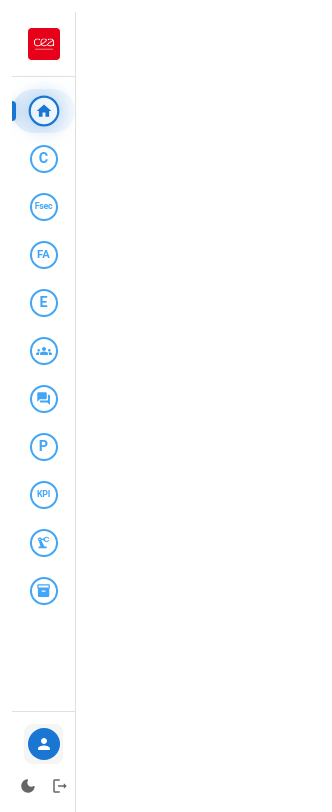
Sidebar — flyout en mode replié › propose « Annuaire des labos » dans le flyout Équipe et Carte et y navigue
Click the button named "Équipe et Carte". click: (44, 351)
box: [30,337,58,365]
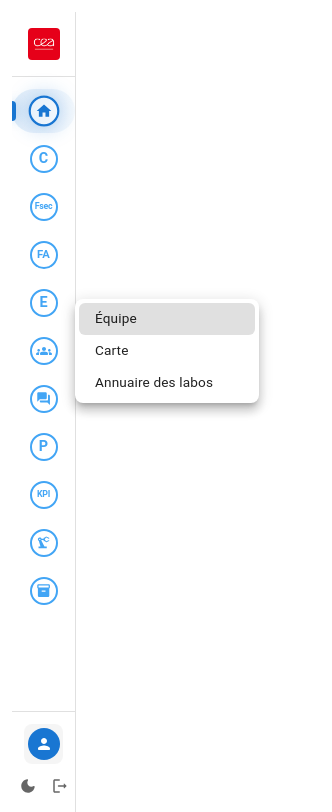
Result: the menu named "Équipe et Carte" is shown at [75,299,259,403]
Result: the menu item "Équipe" is shown at [79,303,255,335]
Result: the menu item "Carte" is shown at [95,342,129,358]
Click the menu item "Annuaire des labos". click: (154, 382)
box: [95,374,213,390]
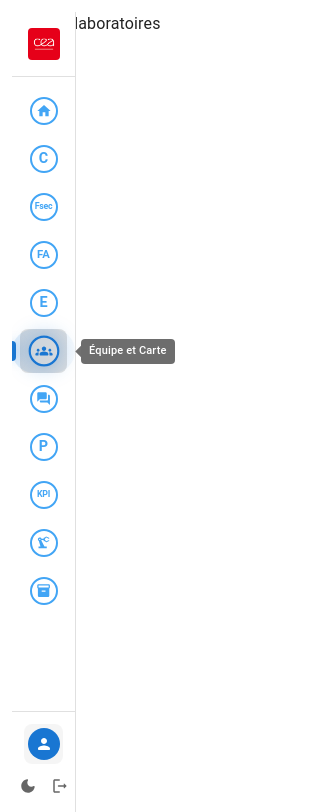
Result: the text with test id "pathname" reads "/equipe/laboratoires" at [12,14,161,33]
Result: the menu is gone
